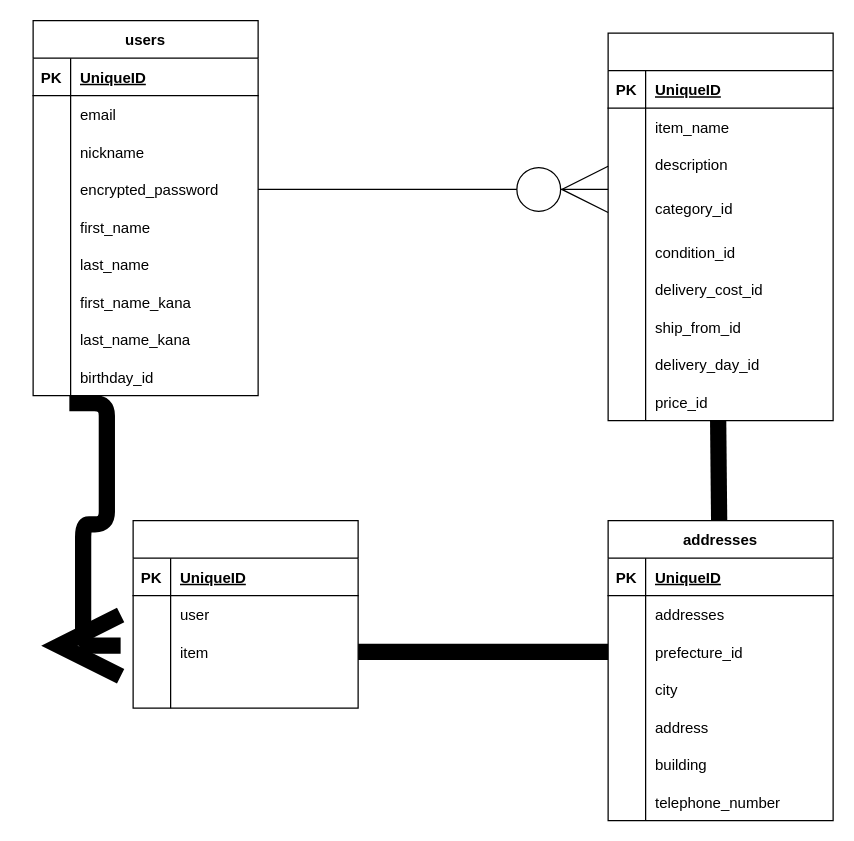
The diagram is 854 pixels wide and 841 high, and some of its shapes have lost their labels. Each missing label, with the box of its shape:
items: (607, 32, 833, 421)
orders: (132, 519, 358, 708)
